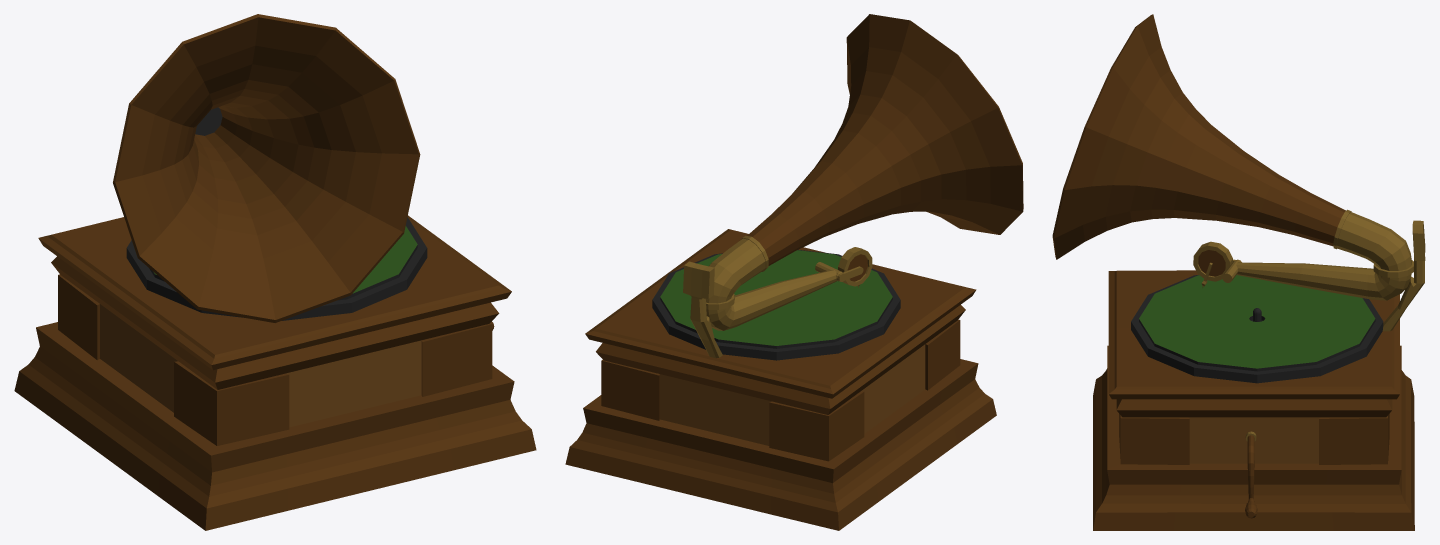
Rendered from gramaphone.fbx.
The picture shows the model from 3 angles, left to right: view 1: azimuth 30°, elevation 25°; view 2: azimuth 150°, elevation 25°; view 3: azimuth 270°, elevation 25°; orthographic projection. The views are drawn at different scales.
Visible parts, largest first — view 1: gramaphone.002; view 2: gramaphone.002; view 3: gramaphone.002.
Part boxes in pixels (<box>): gramaphone.002: <box>14,14,536,530</box>; gramaphone.002: <box>565,14,1023,530</box>; gramaphone.002: <box>1052,14,1425,530</box>.
Size of the model in its own units: 870 by 899 by 756.
